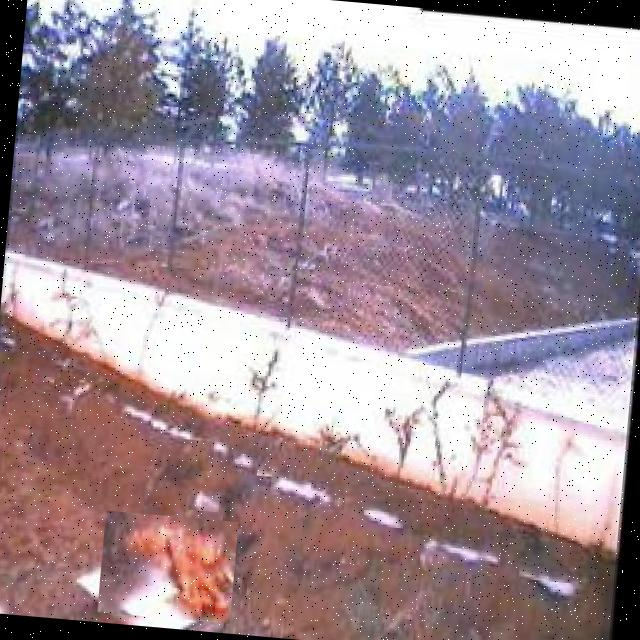fire: (97, 510, 238, 623)
